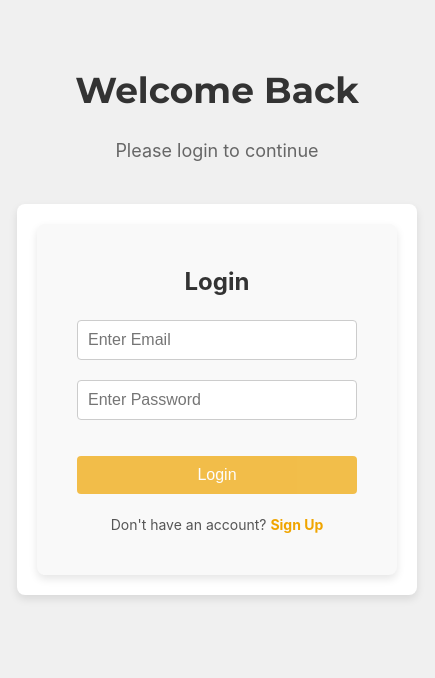
Scenario: Login Page Tests › displays error message on login failure
This screenshot has width=435, height=678.
In the field with placeholder "Enter Email": (217, 340) [77, 320, 357, 360], type "test@example.com"
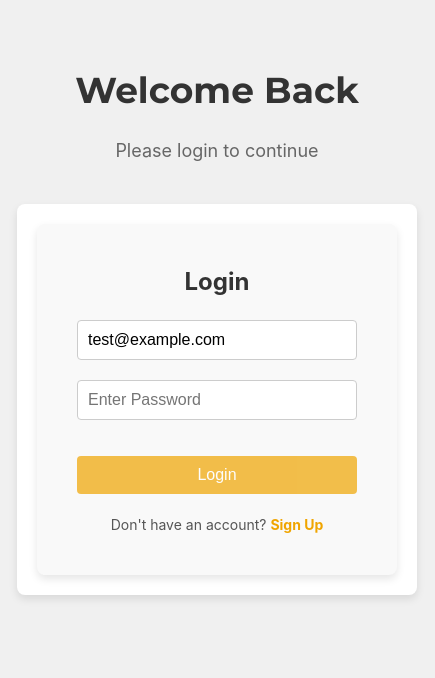
In the password field with placeholder "Enter Password": (217, 400) [77, 380, 357, 420], type "wrongpassword"
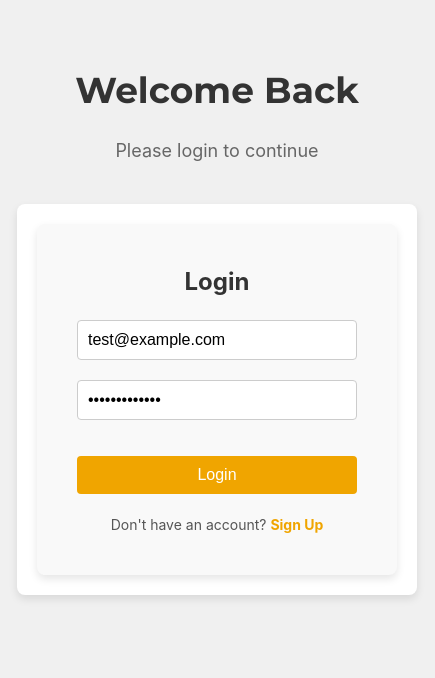
Click the button "Login": (217, 475) [77, 456, 357, 494]
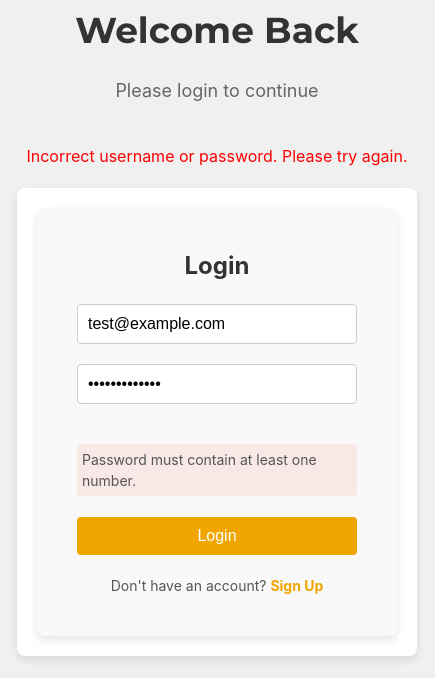
Expected: the text "Incorrect username or password. Please try again." is shown, [26, 144, 408, 168]
